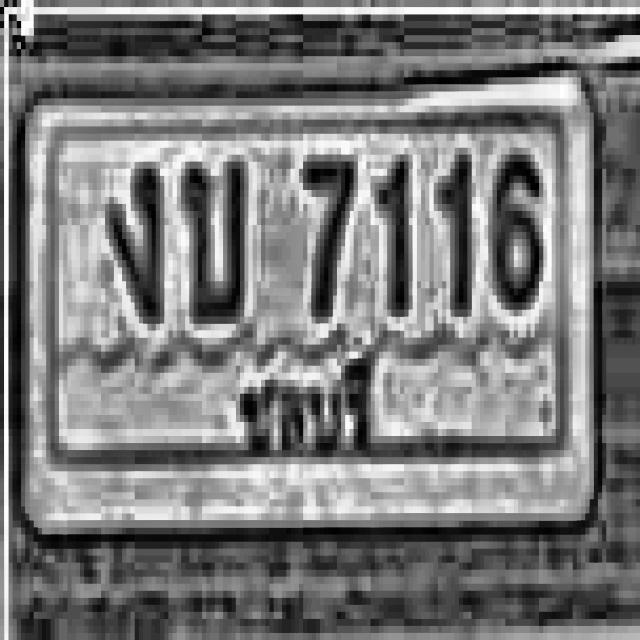license-plate: (21, 61, 596, 534)
